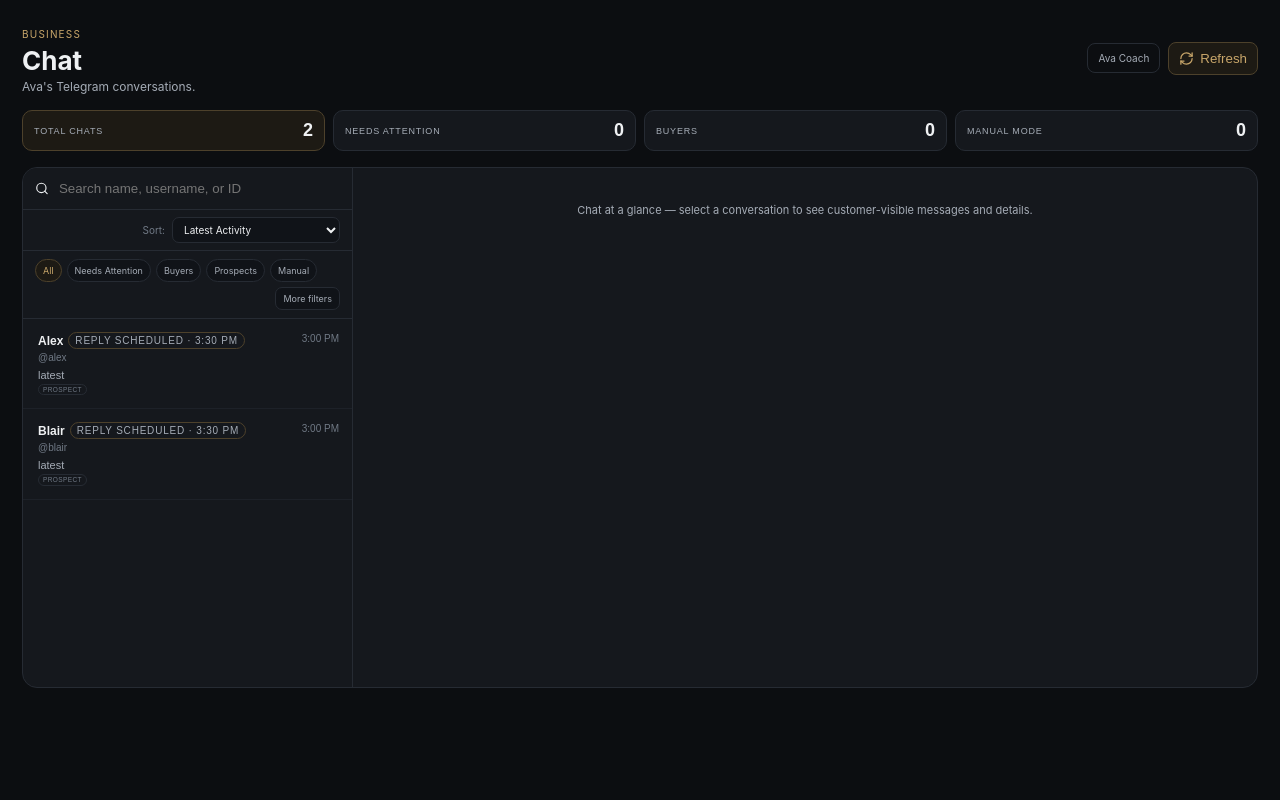
Test: closes the drawer when another conversation is selected without truncating its history
Click the button "Alex REPLY SCHEDULED · 3:30 PM @alex latest PROSPECT 3:00 PM": point(157, 340) [23, 319, 352, 410]
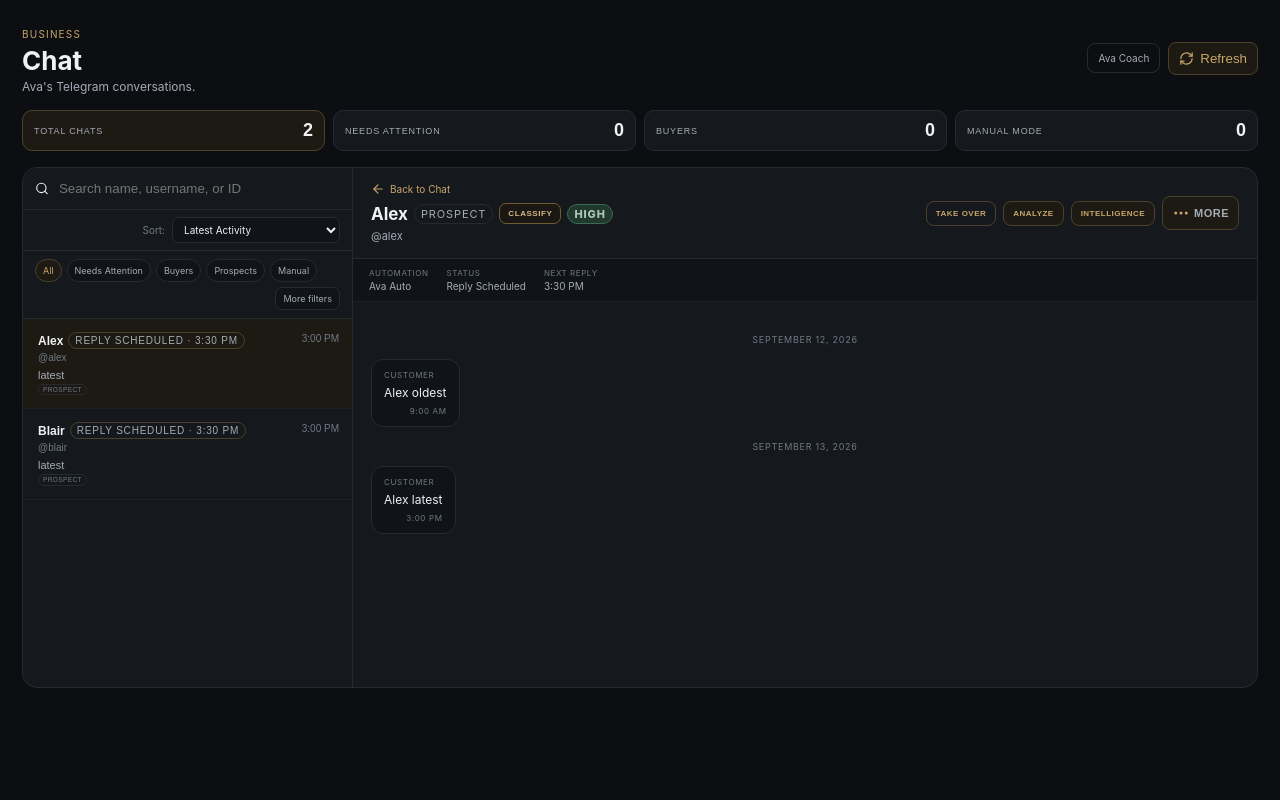
expect the text "Alex latest" is shown: met, box [384, 491, 442, 509]
Click the button with aria-label "Open Customer Intelligence": point(1113, 213) [1071, 200, 1155, 226]
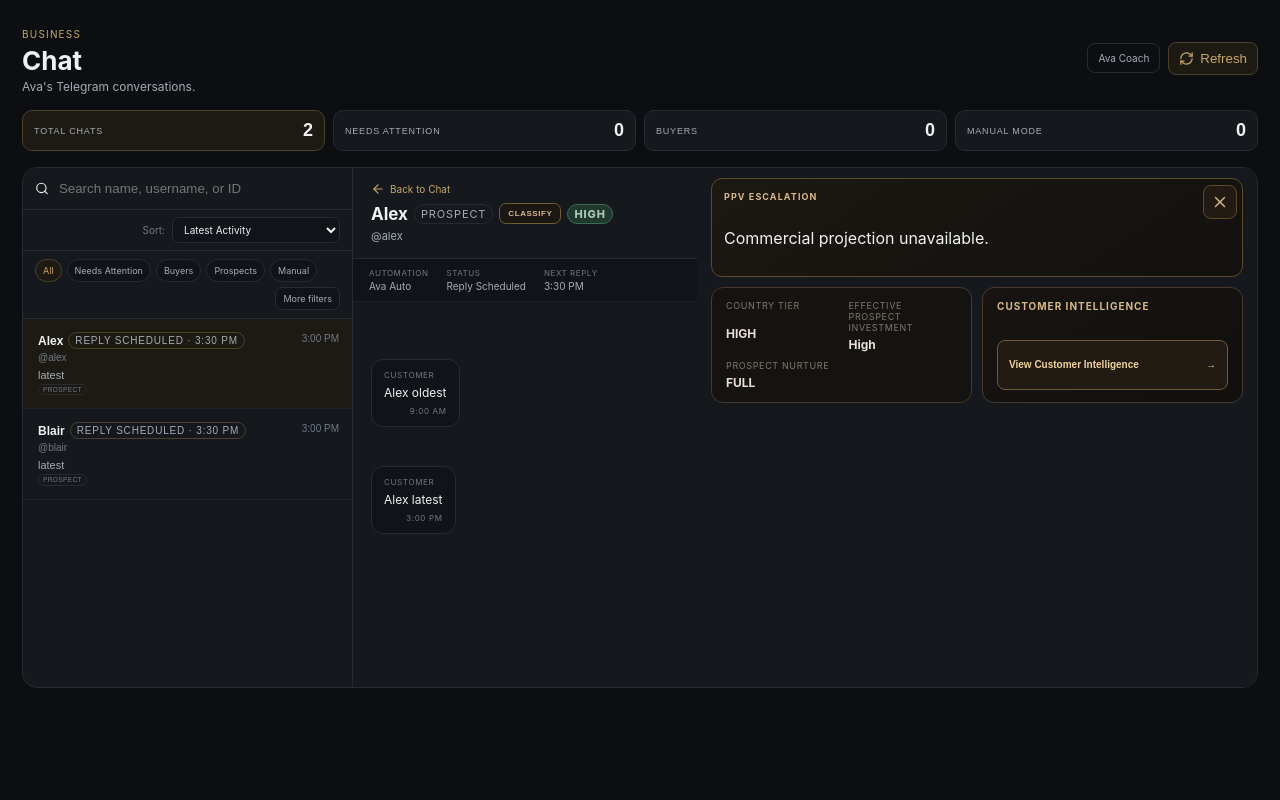
expect the element named "Customer Intelligence" is shown: met, box [827, 168, 1257, 687]
Click the button "Blair": point(158, 431) [23, 410, 352, 500]
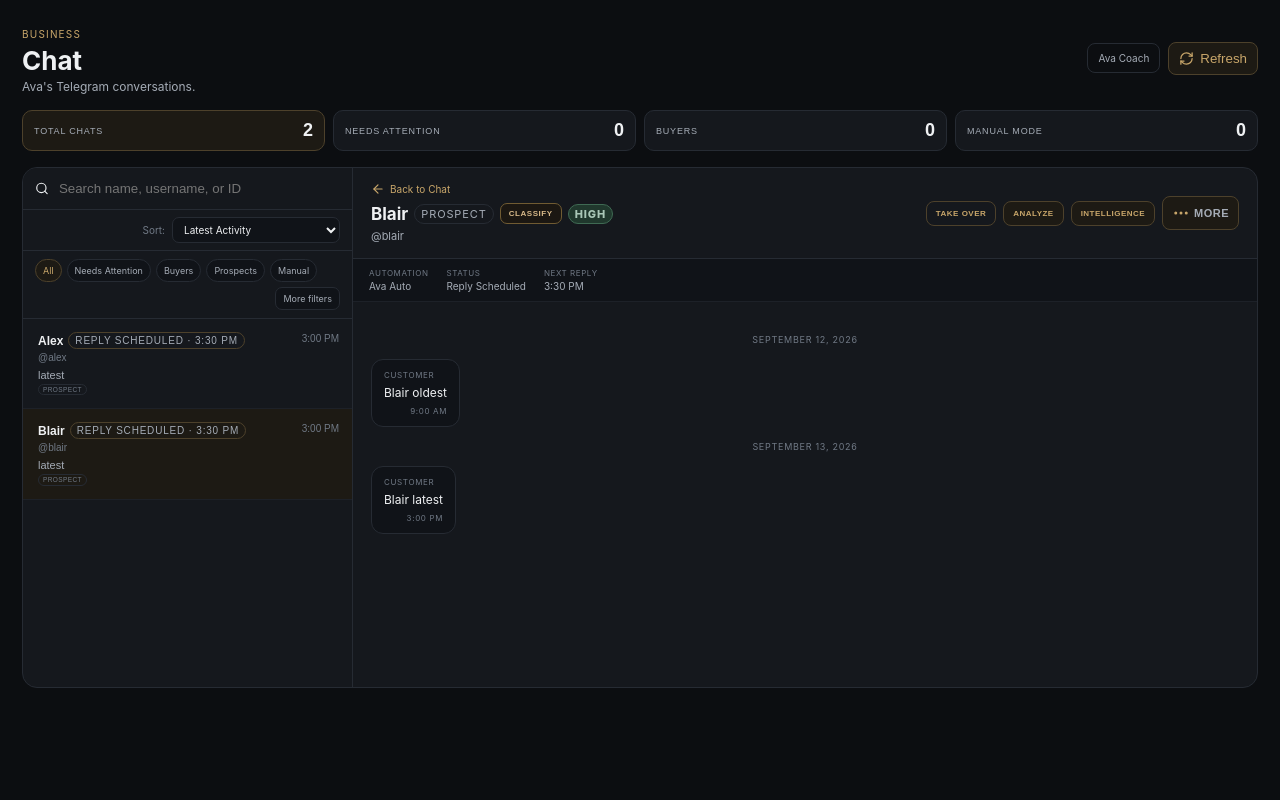
expect the text "Blair latest" is shown: met, box [384, 491, 443, 509]
expect the heading "Customer Intelligence" is gone: met
expect the text "Blair oldest" is shown: met, box [384, 384, 447, 402]
